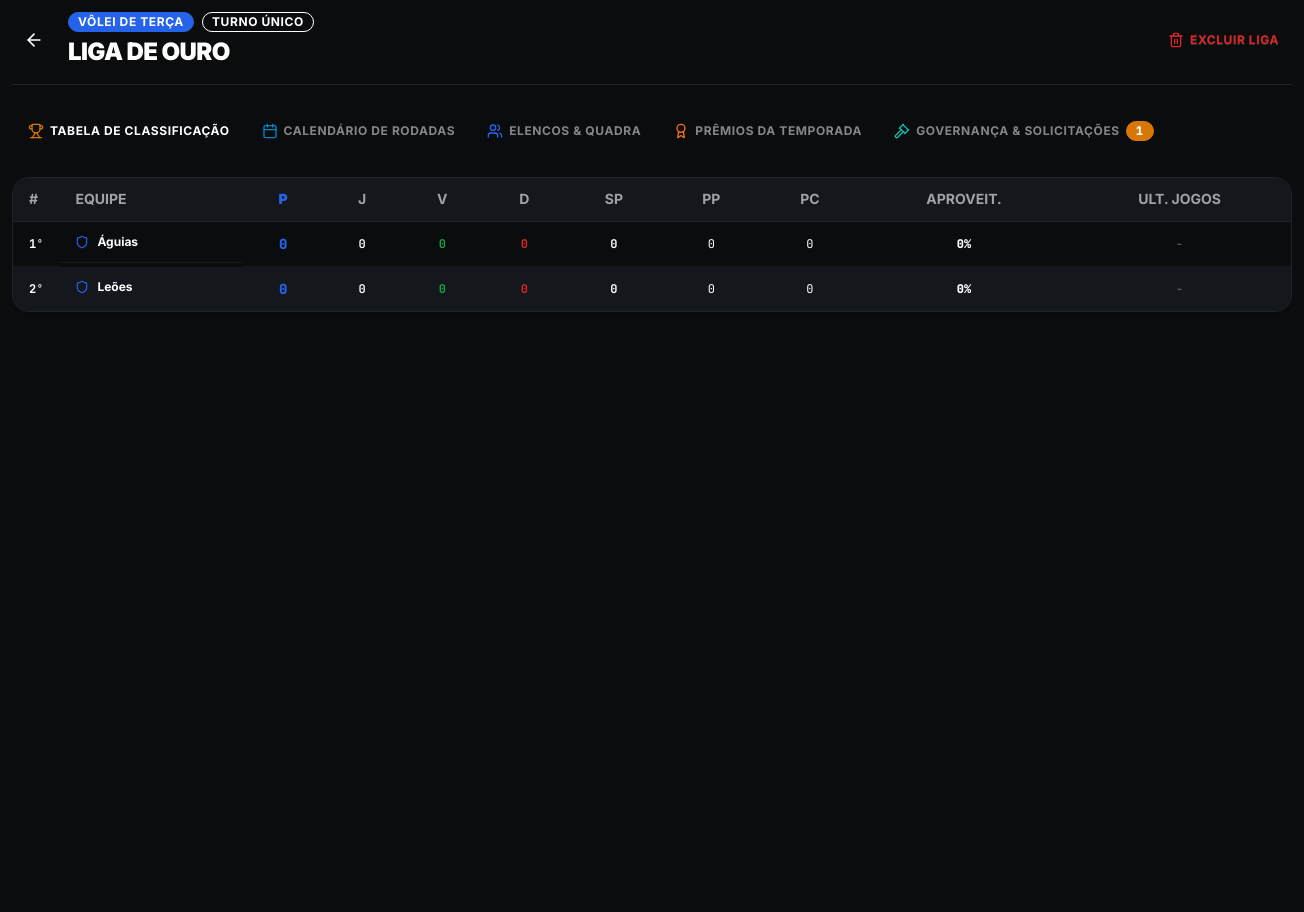
Scenario: ChampionshipDetailView › materializar pede a sessão ao shell e mostra a recusa sem sair da liga
Click the button "Calendário de Rodadas" at (358, 131), box [246, 109, 471, 153]
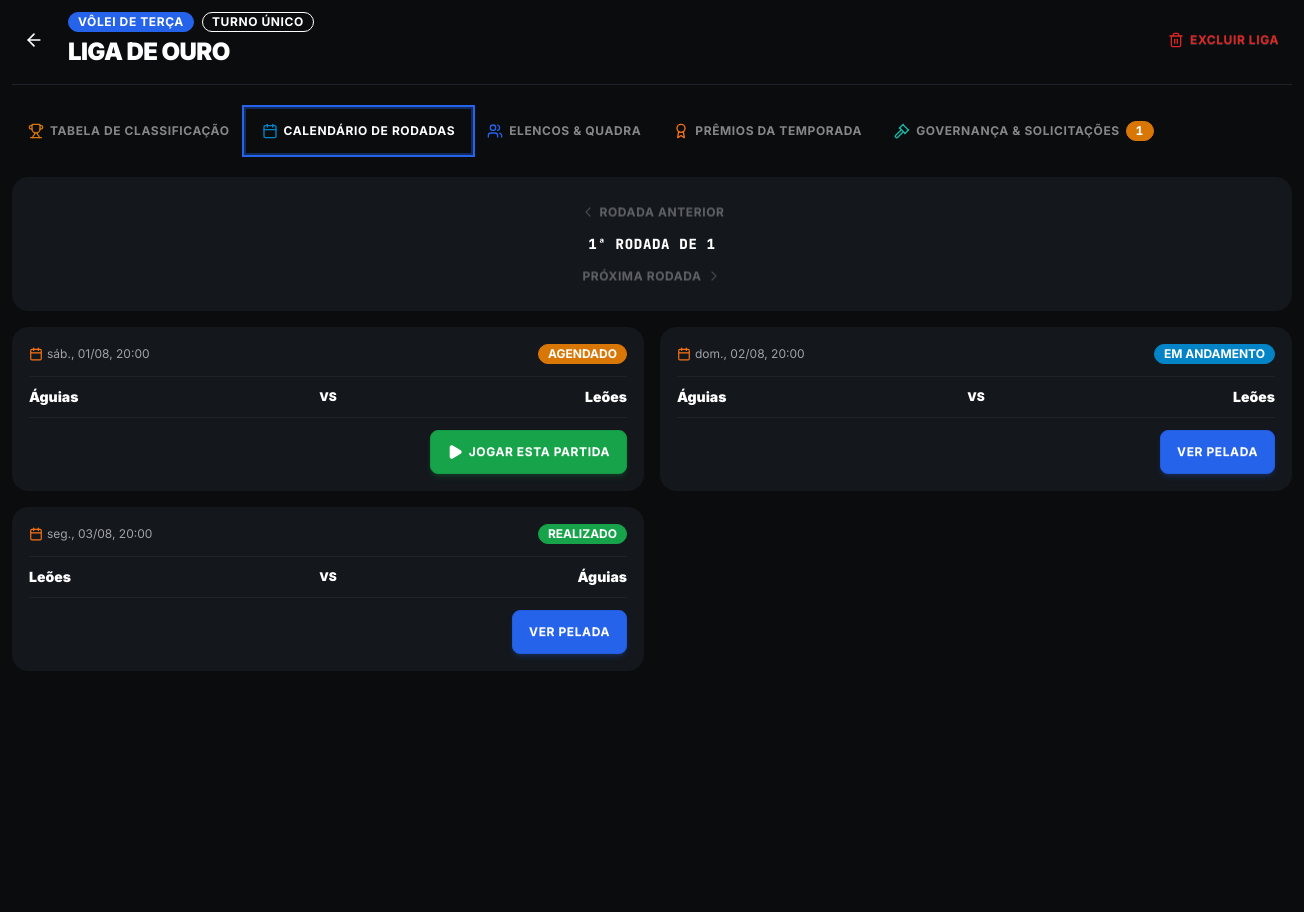
Click the button "Jogar esta partida" at (528, 452), box [430, 430, 627, 474]
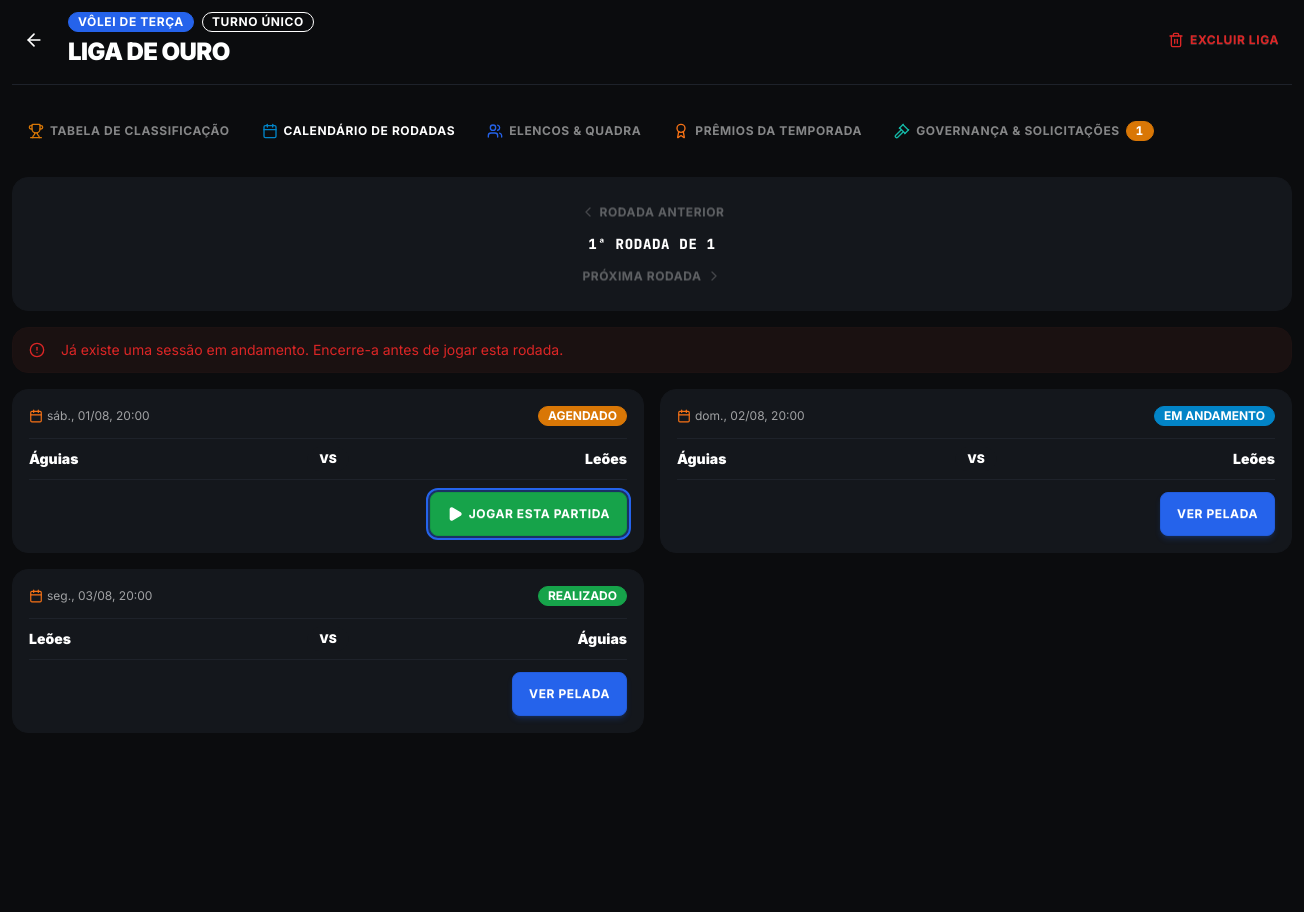
Check: the message shows "Já existe uma sessão em andamento", box [61, 341, 563, 358]
